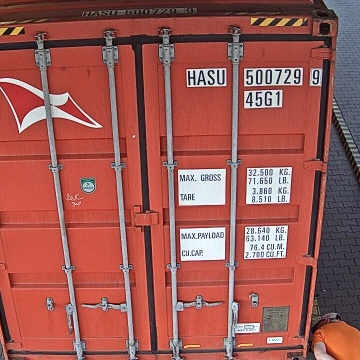serial_id: (187, 68, 321, 84)
